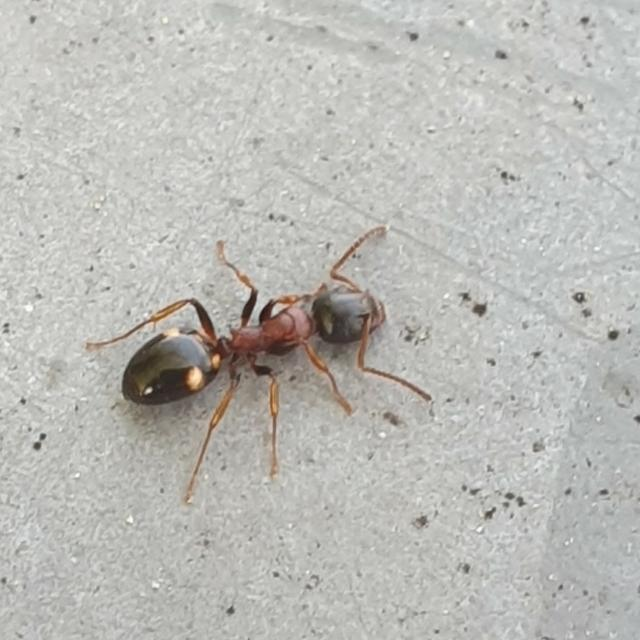Dolichoderus: (103, 224, 415, 446)
